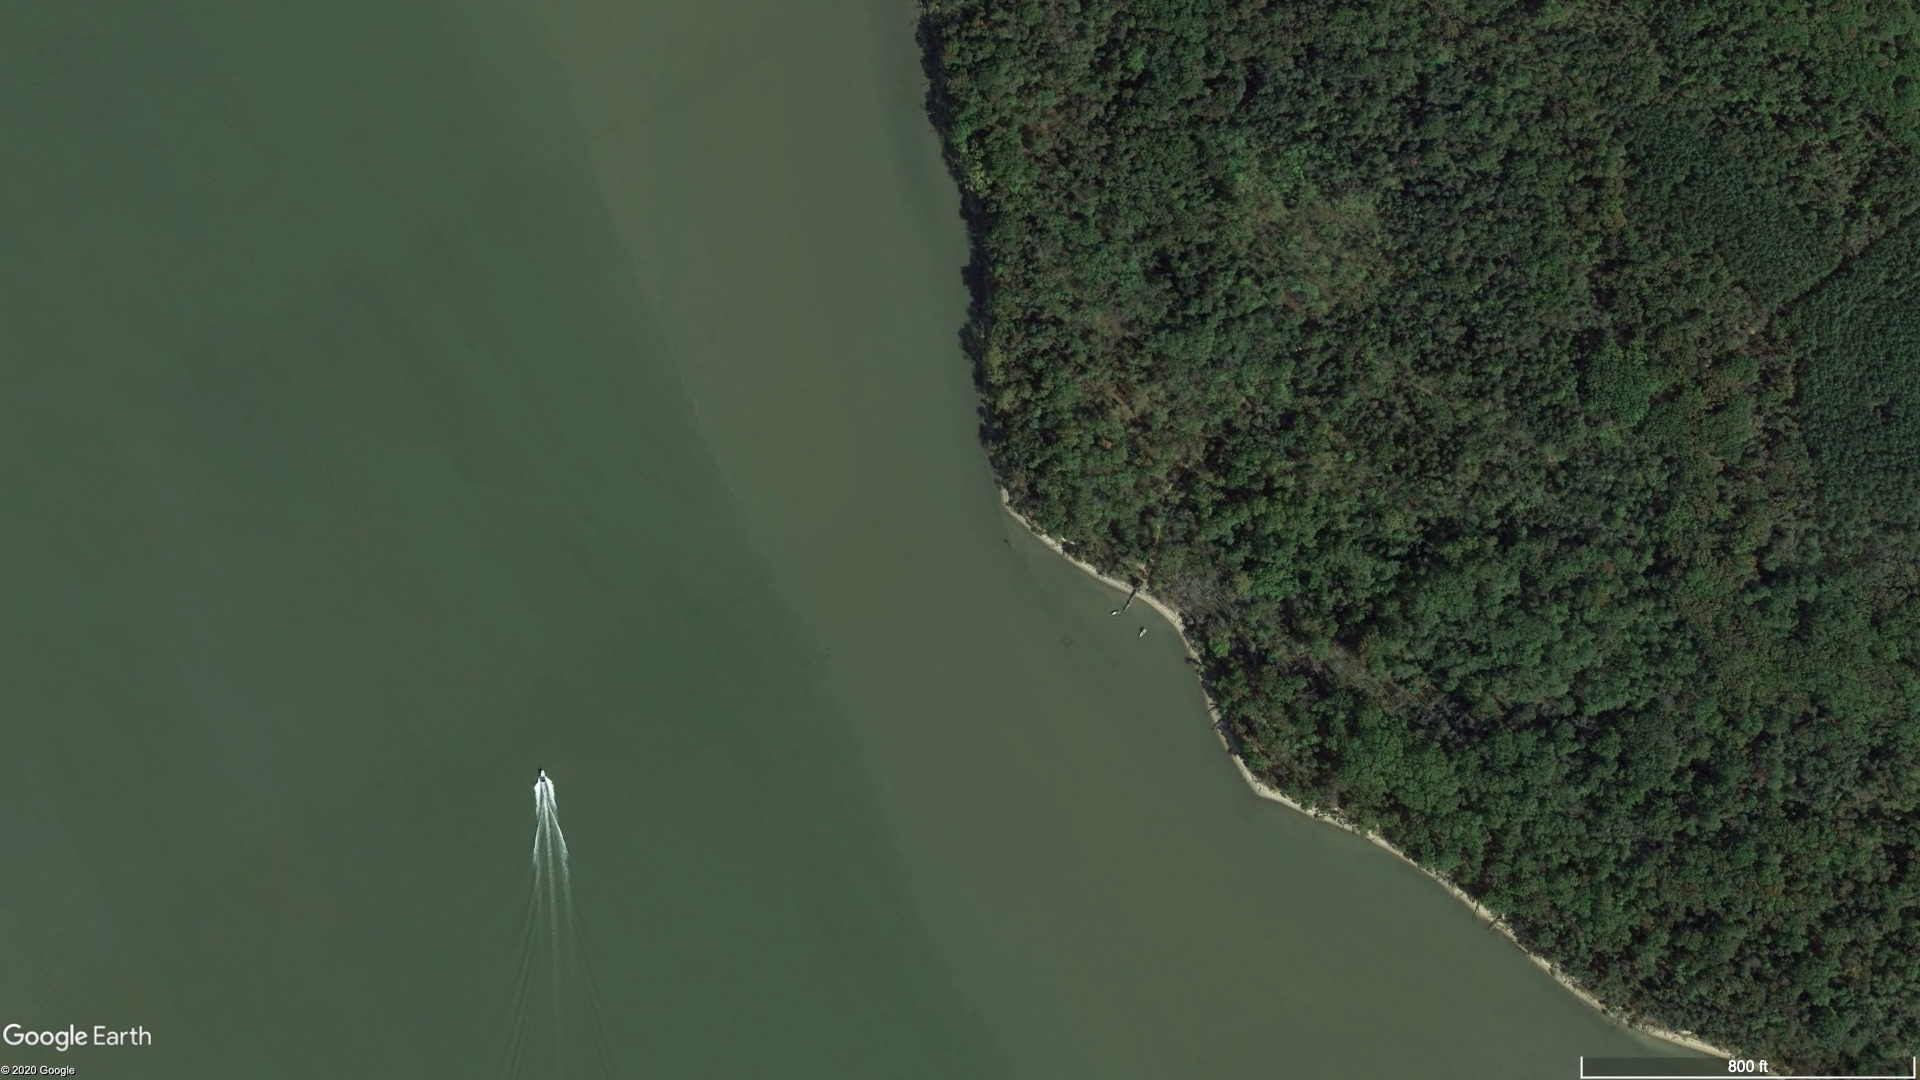boat: (535, 770, 550, 785), (1138, 626, 1147, 637)
